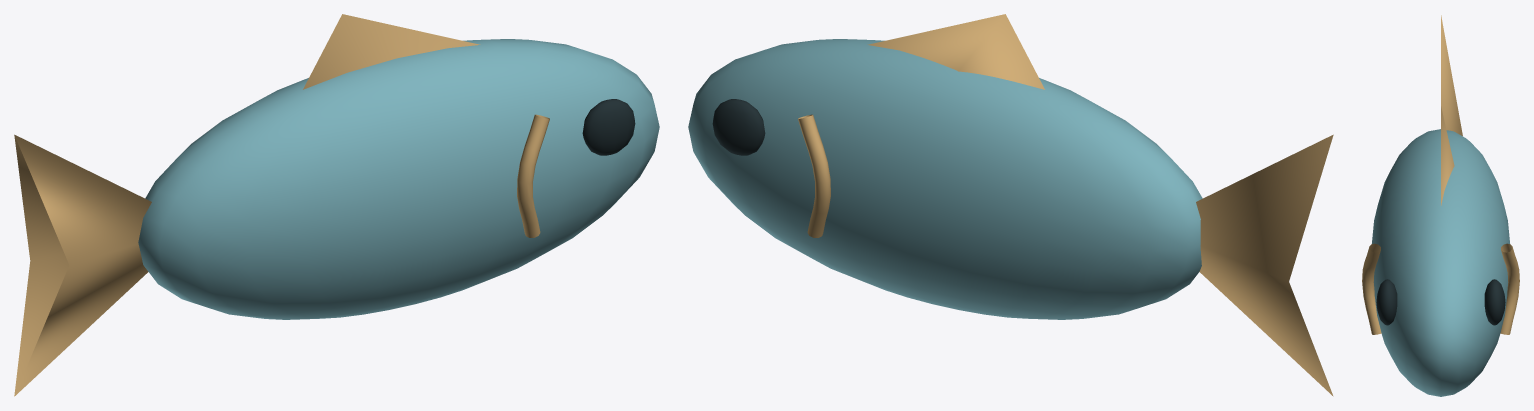
File: small_fish.glb
3 renders of one model, left to right at view 1: azimuth 30°, elevation 25°; view 2: azimuth 150°, elevation 25°; view 3: azimuth 270°, elevation 25°, orthographic. The views are drawn at different scales.
Visible parts, largest first — view 1: small_fish_textured_mesh; view 2: small_fish_textured_mesh; view 3: small_fish_textured_mesh.
Part boxes in pixels (<box>): small_fish_textured_mesh: <box>14,14,659,396</box>; small_fish_textured_mesh: <box>688,14,1333,396</box>; small_fish_textured_mesh: <box>1362,15,1519,396</box>.
Bounding box in the file's own units: 2.33 × 1.05 × 0.6481.
Materials: 1 (1 with a texture image).
